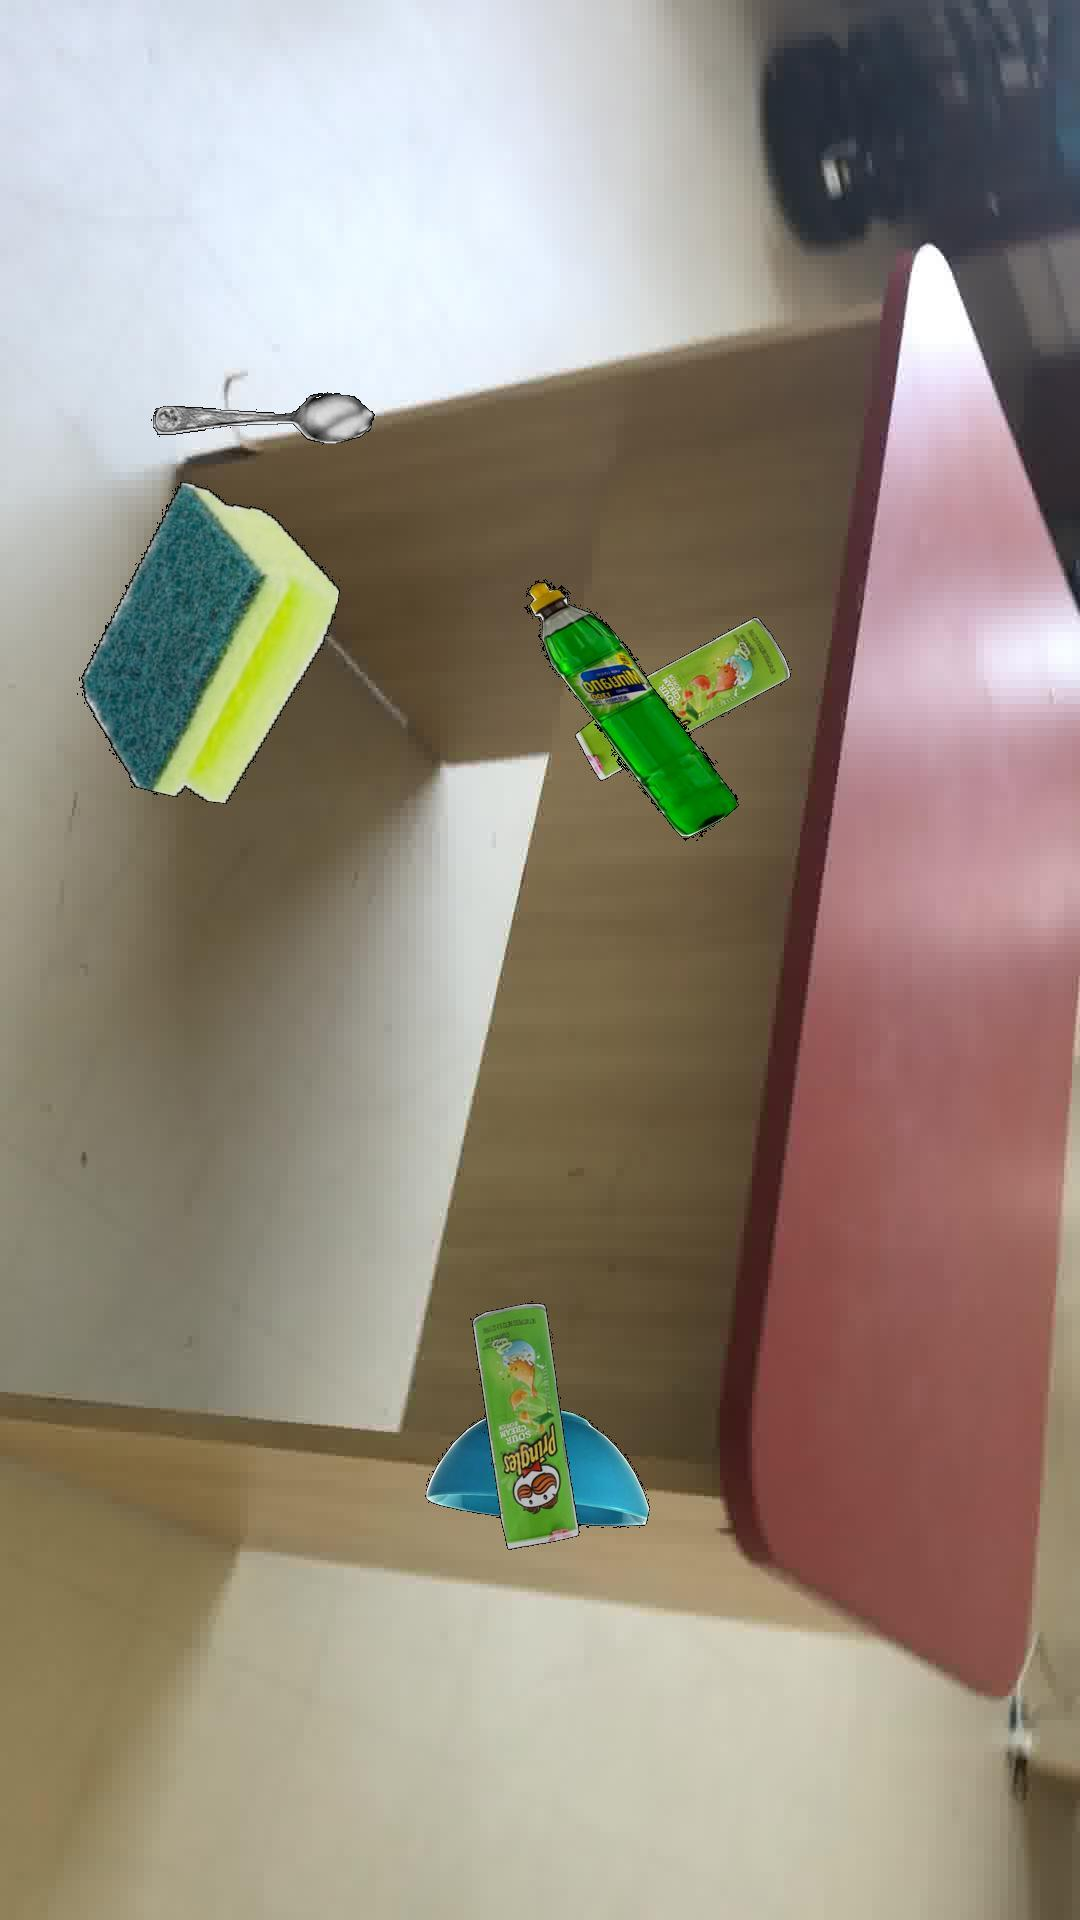bowl: (423, 1408, 649, 1527)
cleaner: (522, 579, 737, 836)
pringles: (574, 616, 790, 779), (471, 1302, 579, 1548)
sponge: (79, 480, 339, 803)
spoon: (152, 390, 373, 443)
